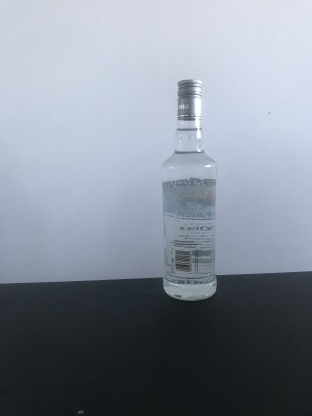nakretka: (176, 76, 203, 124)
